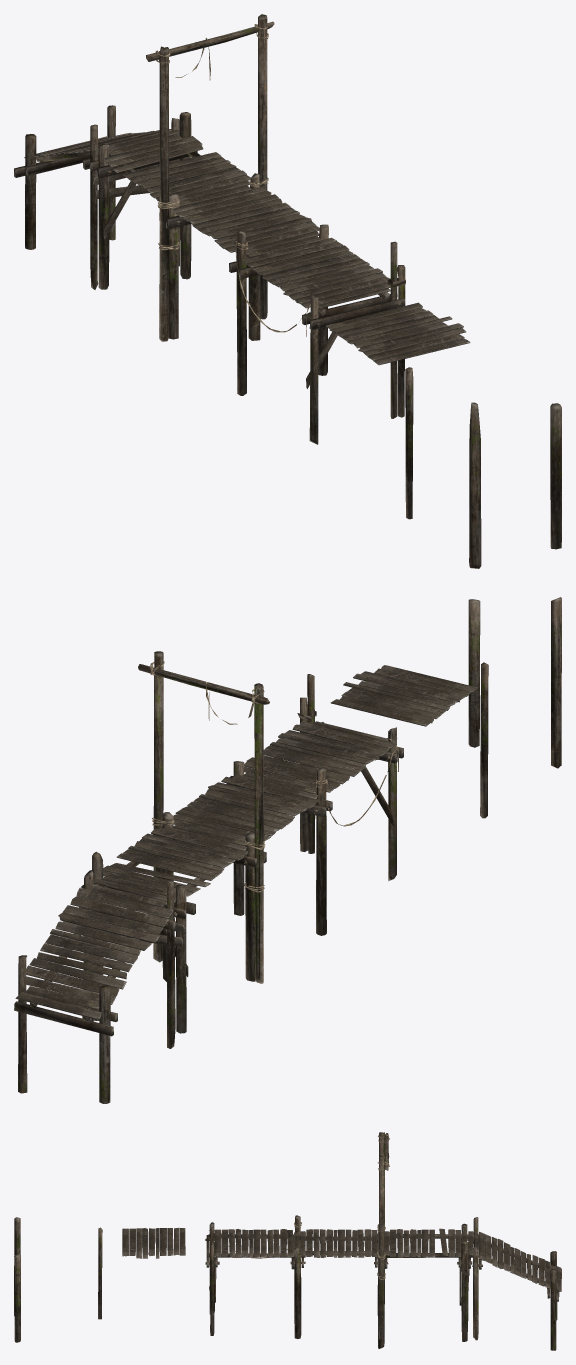
The model's file is modular_wooden_pier.glb.
The picture shows the model from 3 angles, top to bottom: view 1: azimuth 30°, elevation 25°; view 2: azimuth 150°, elevation 25°; view 3: azimuth 270°, elevation 25°; orthographic projection. The views are drawn at different scales.
Visible parts, largest first — view 1: modular_wooden_pier_planks, modular_wooden_pier_section_01, modular_wooden_pier_poles; view 2: modular_wooden_pier_planks, modular_wooden_pier_section_01, modular_wooden_pier_poles; view 3: modular_wooden_pier_planks, modular_wooden_pier_section_01, modular_wooden_pier_poles.
Part boxes in pixels (x1,y1,x2,y2): modular_wooden_pier_planks: [14, 24, 470, 388]; modular_wooden_pier_section_01: [25, 14, 405, 444]; modular_wooden_pier_poles: [405, 367, 561, 568]; modular_wooden_pier_planks: [14, 661, 477, 1036]; modular_wooden_pier_section_01: [18, 651, 397, 1103]; modular_wooden_pier_poles: [468, 597, 561, 818]; modular_wooden_pier_planks: [122, 1134, 561, 1305]; modular_wooden_pier_section_01: [205, 1132, 559, 1350]; modular_wooden_pier_poles: [14, 1217, 102, 1342].
Size of the model in its own units: 3.06 by 7.5 by 19.02.
Materials: 2 (2 with a texture image).
